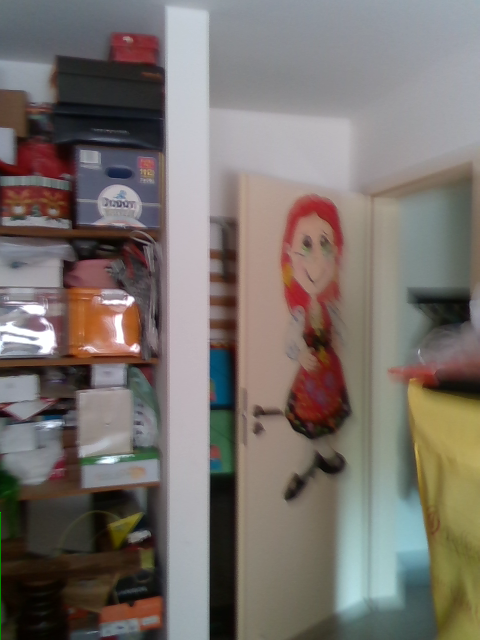open: (237, 142, 479, 639)
